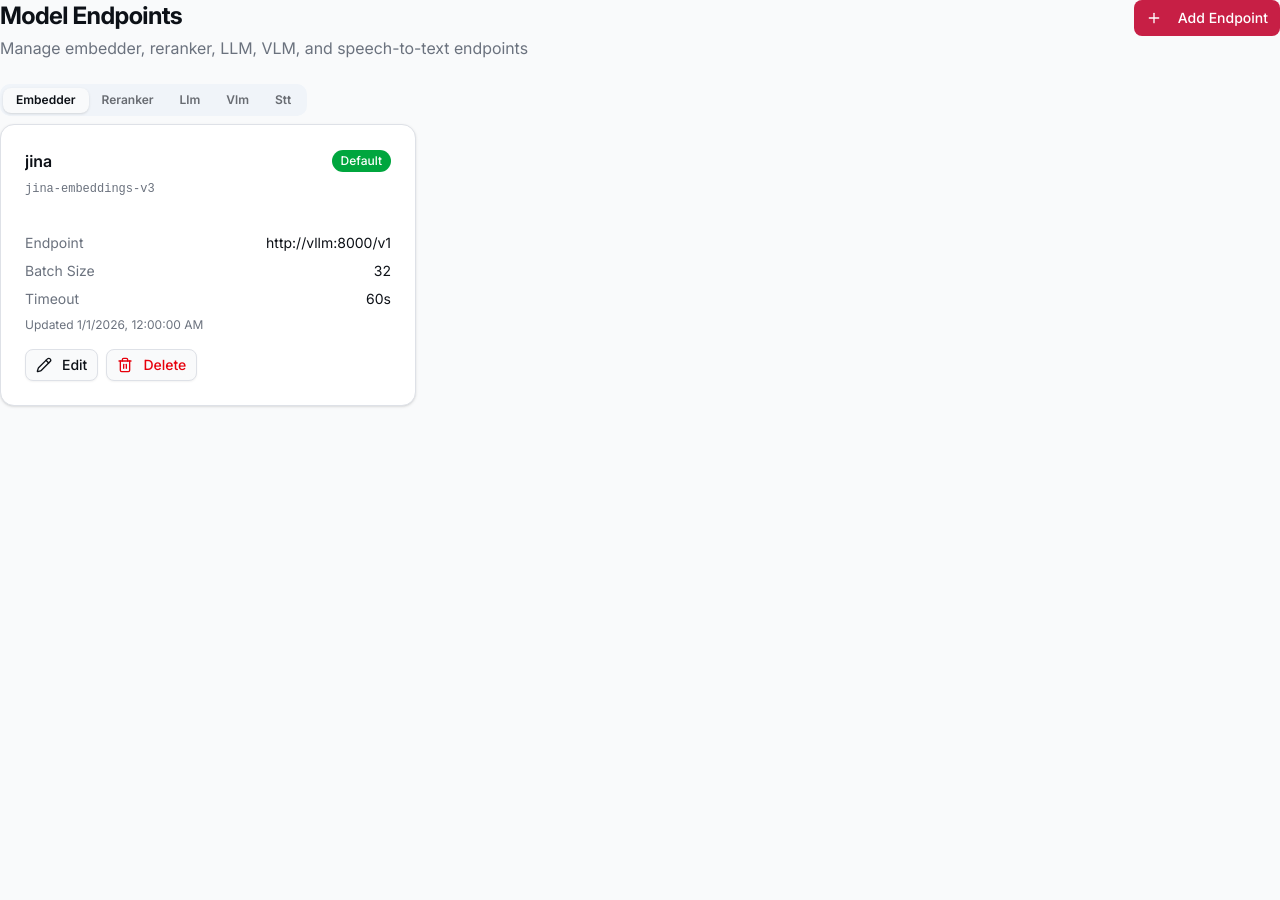
Test: ModelsPage delete warning (#762) › says an unused endpoint deletes cleanly, with no count badge
Expected: the text "jina-embeddings-v3" is shown, [25,182,155,196]
Click the button "Delete". click: (152, 365)
box: [106,349,197,381]
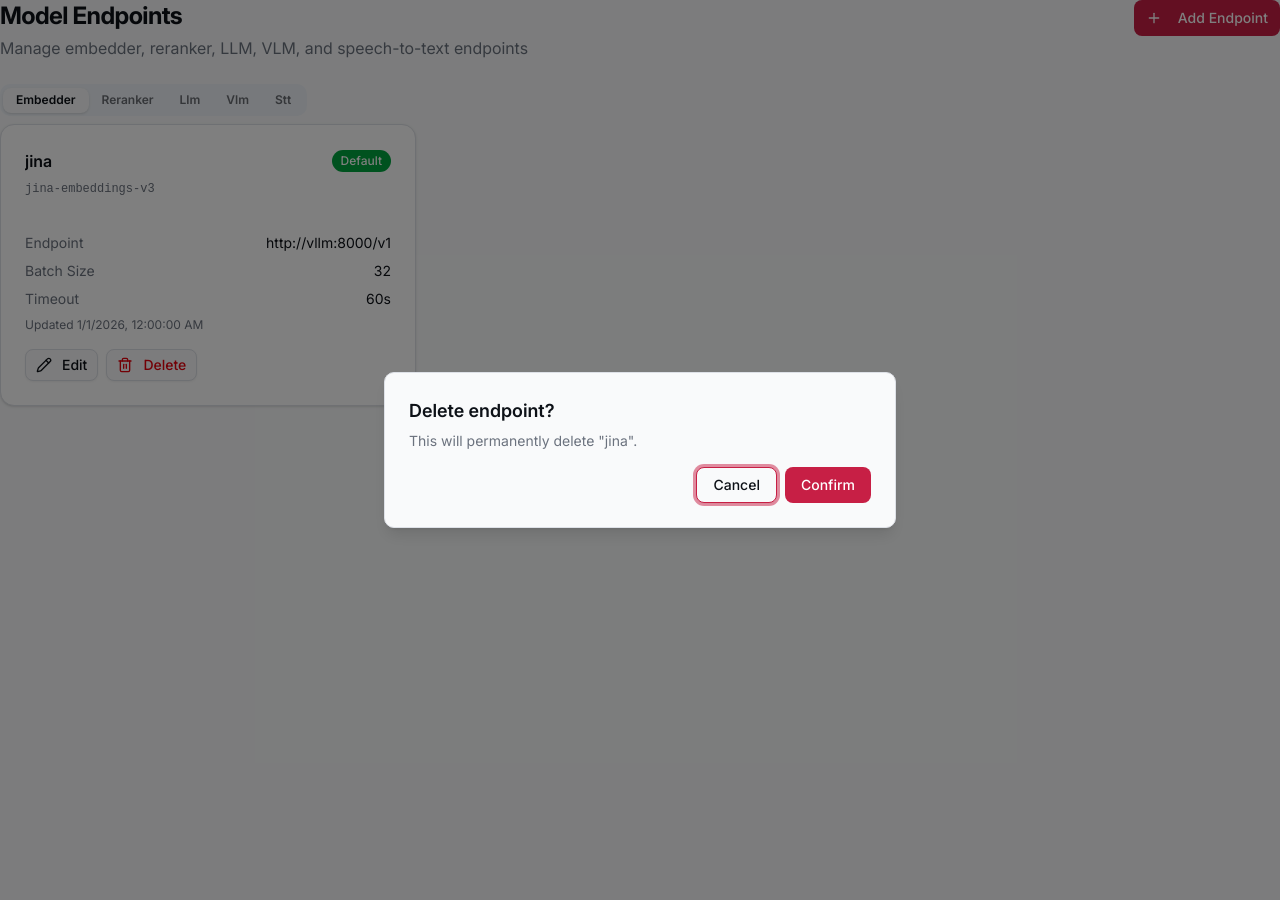
Expected: the text "This will permanently delete \"jina\"." is shown, [409,431,637,451]
